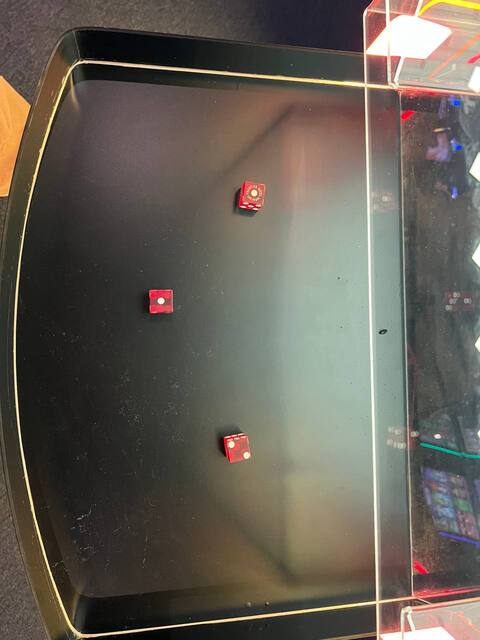one: (146, 285, 178, 318), (239, 181, 267, 207)
two: (224, 436, 253, 466)
